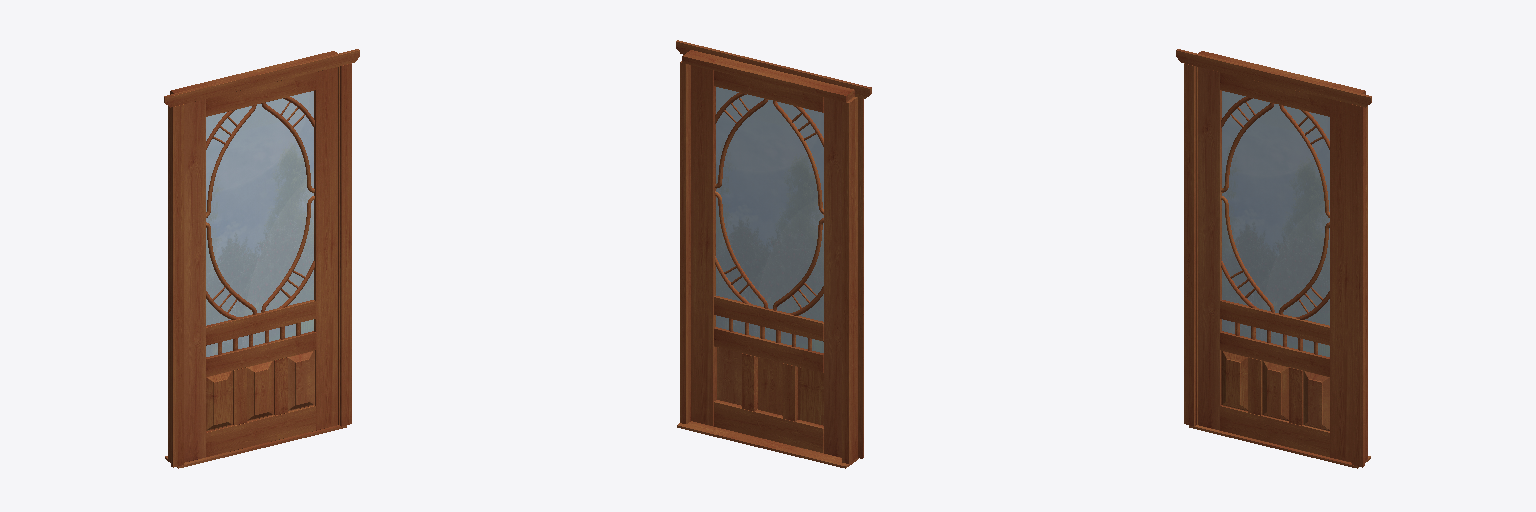
3 views of the same model, side by side, from view 1: azimuth 30°, elevation 25°; view 2: azimuth 150°, elevation 25°; view 3: azimuth 330°, elevation 25° (orthographic).
Visible parts, largest first — view 1: glass, door_right, door_left, trim_left, trim_right, door_bottom, design_thick, trim_top, door_middle002, door_middle001, door_top, panel_extruded002 (+8 smaller); view 2: glass, door_right, door_left, box_left, box_right, door_bottom, design_thick, top_door_jumb, trim_left, door_middle001, door_middle002, door_top (+7 smaller); view 3: glass, door_left, door_right, trim_right, trim_left, door_bottom, design_thick, trim_top, door_middle002, door_middle001, door_top, panel_extruded003 (+8 smaller).
Part boxes in pixels (x1,y1,x2,y2): glass: (206, 91, 313, 356); door_right: (314, 67, 337, 430); door_left: (184, 99, 205, 462); trim_left: (171, 104, 183, 467); trim_right: (340, 63, 351, 426); door_bottom: (206, 405, 315, 456); design_thick: (206, 97, 314, 319); trim_top: (164, 49, 359, 107); door_middle002: (206, 300, 315, 345); door_middle001: (206, 331, 315, 376); door_top: (206, 72, 315, 116); panel_extruded002: (206, 371, 232, 430); glass: (716, 87, 823, 352); door_right: (691, 65, 716, 426); door_left: (824, 98, 841, 457); box_left: (842, 97, 857, 463); box_right: (680, 61, 690, 423); door_bottom: (714, 400, 823, 452); design_thick: (715, 92, 823, 315); top_door_jumb: (682, 50, 854, 102); trim_left: (858, 97, 863, 458); door_middle001: (714, 327, 823, 372); door_middle002: (714, 296, 823, 341); door_top: (714, 71, 823, 112); glass: (1222, 91, 1329, 356); door_left: (1198, 67, 1221, 430); door_right: (1330, 99, 1351, 462); trim_right: (1352, 104, 1364, 467); trim_left: (1184, 63, 1195, 426); door_bottom: (1220, 405, 1329, 456); design_thick: (1221, 97, 1329, 319); trim_top: (1176, 49, 1371, 107); door_middle002: (1220, 300, 1329, 345); door_middle001: (1220, 331, 1329, 376); door_top: (1220, 72, 1329, 116); panel_extruded003: (1303, 371, 1329, 430).
Bounding box in the file's own units: 45.24 × 83 × 5.5.
8 materials, 8 textured.